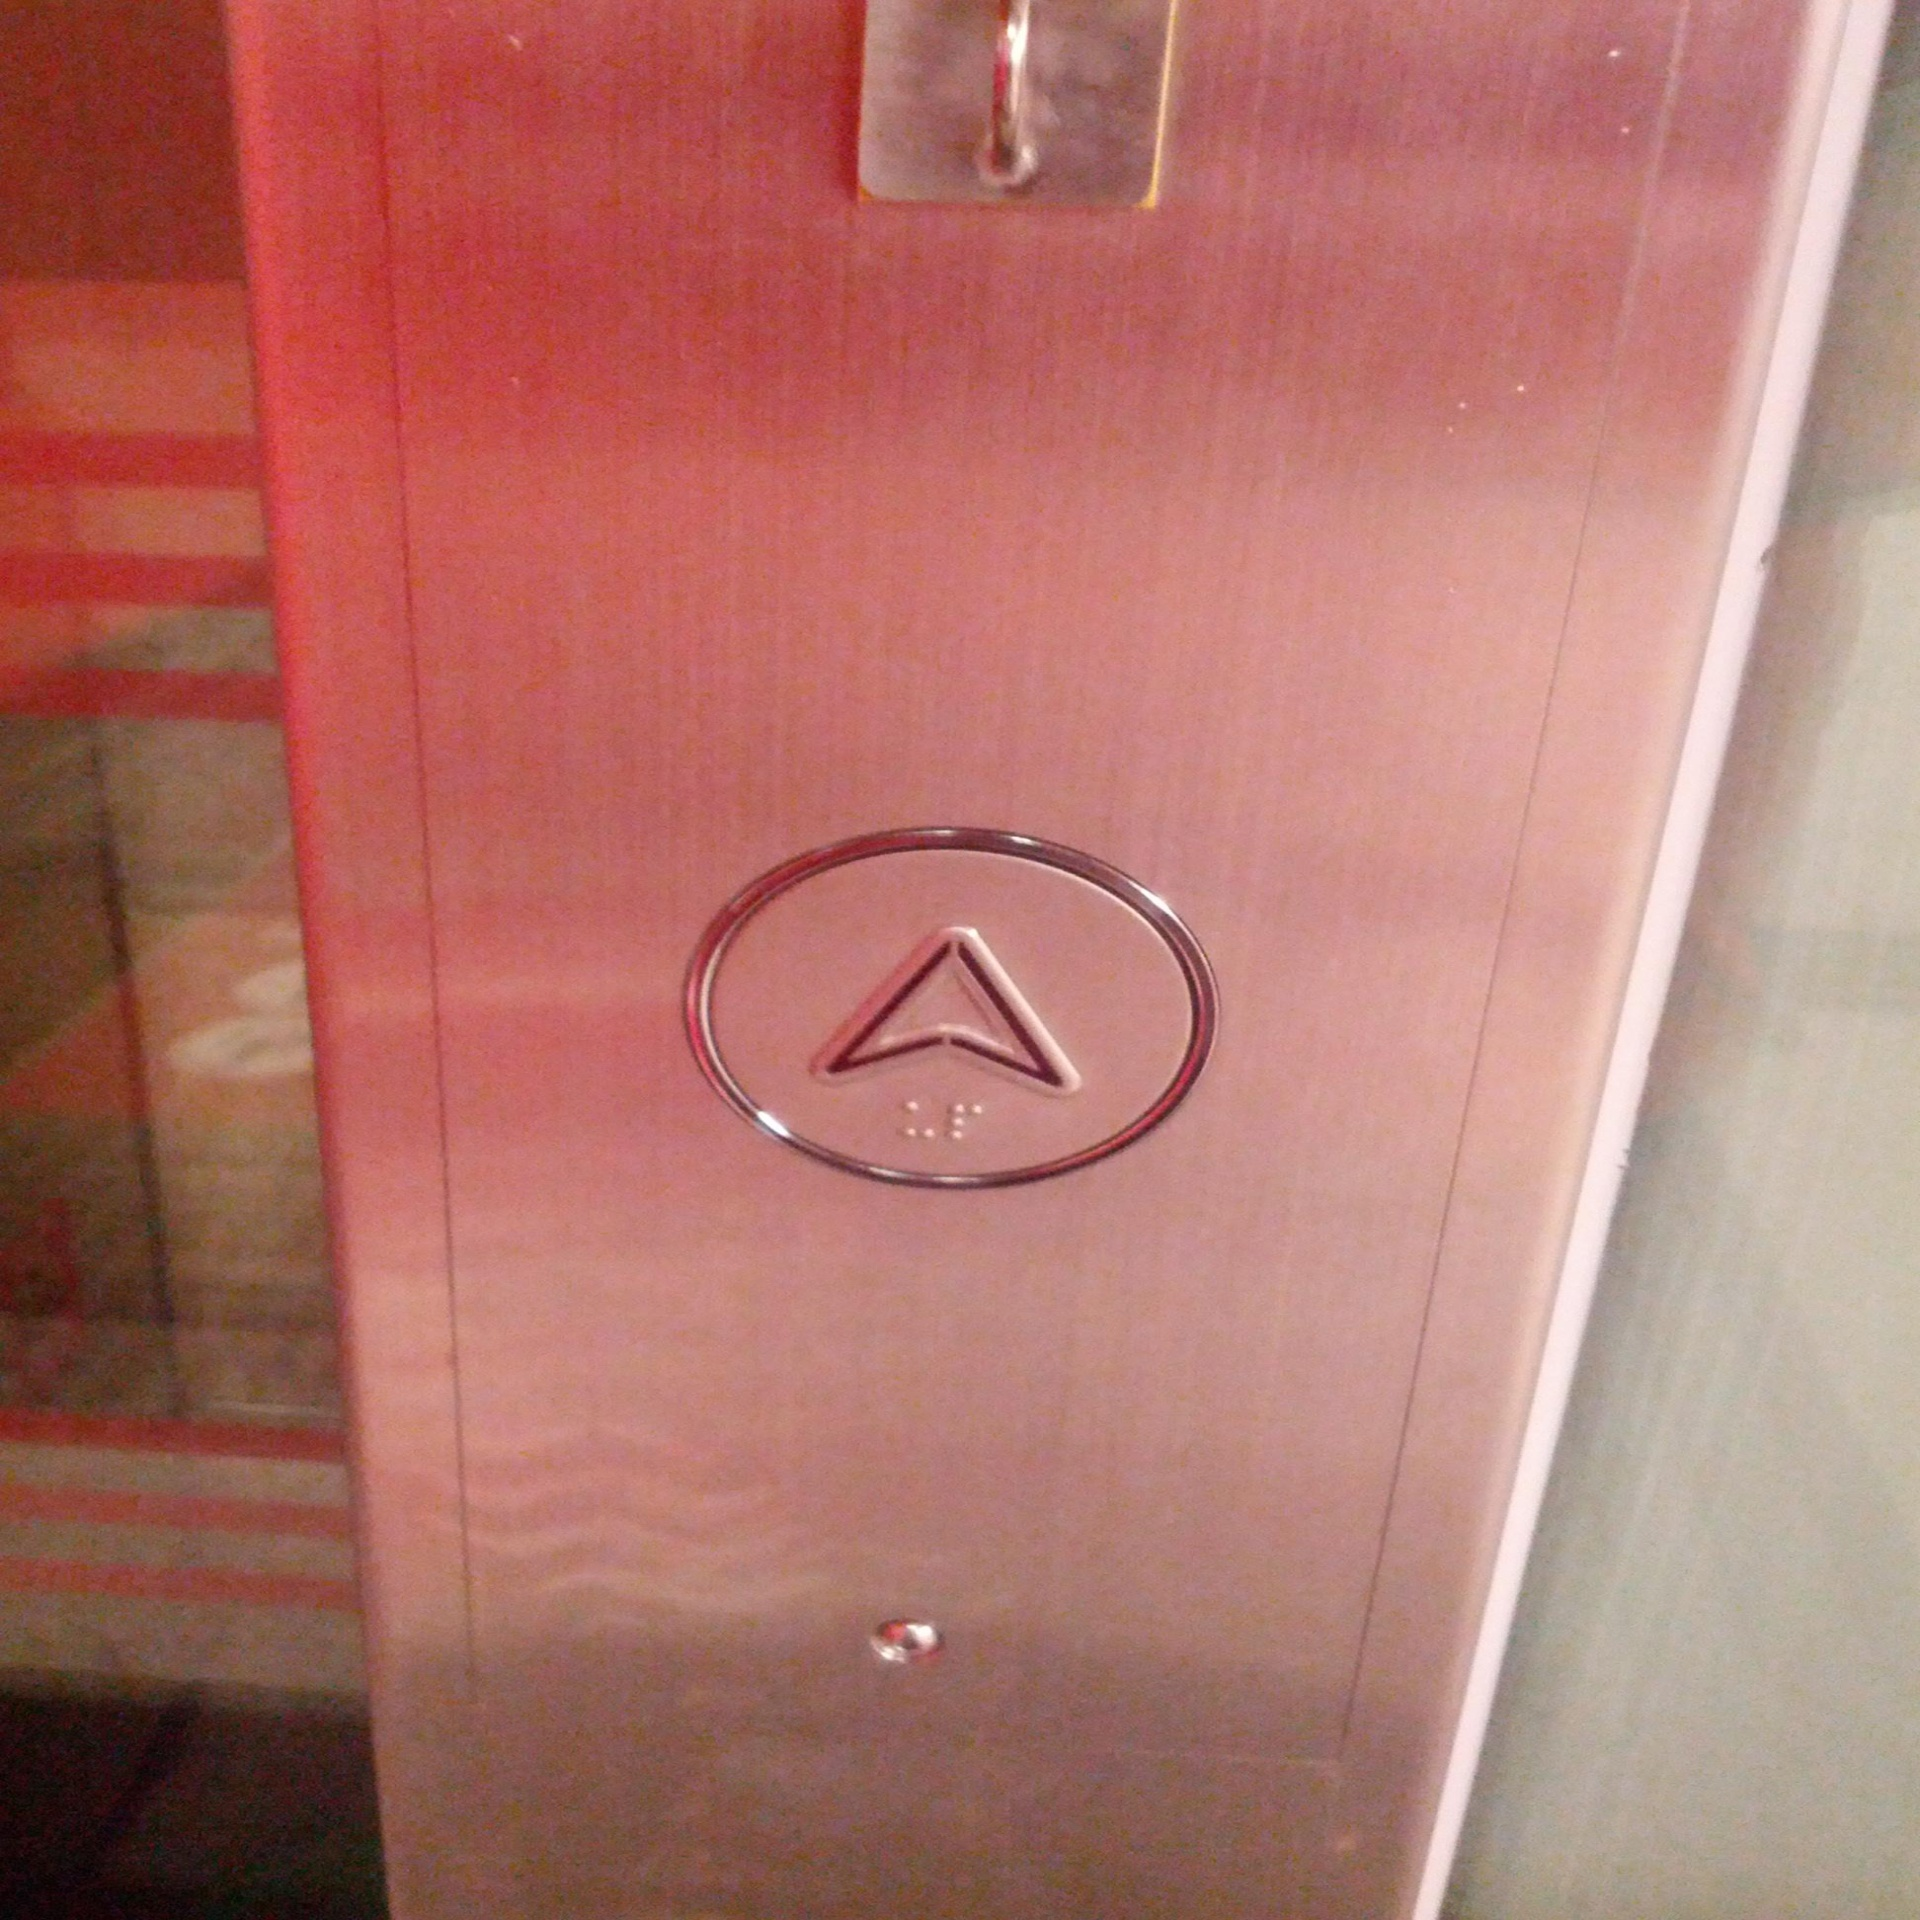up: (673, 816, 1220, 1208)
